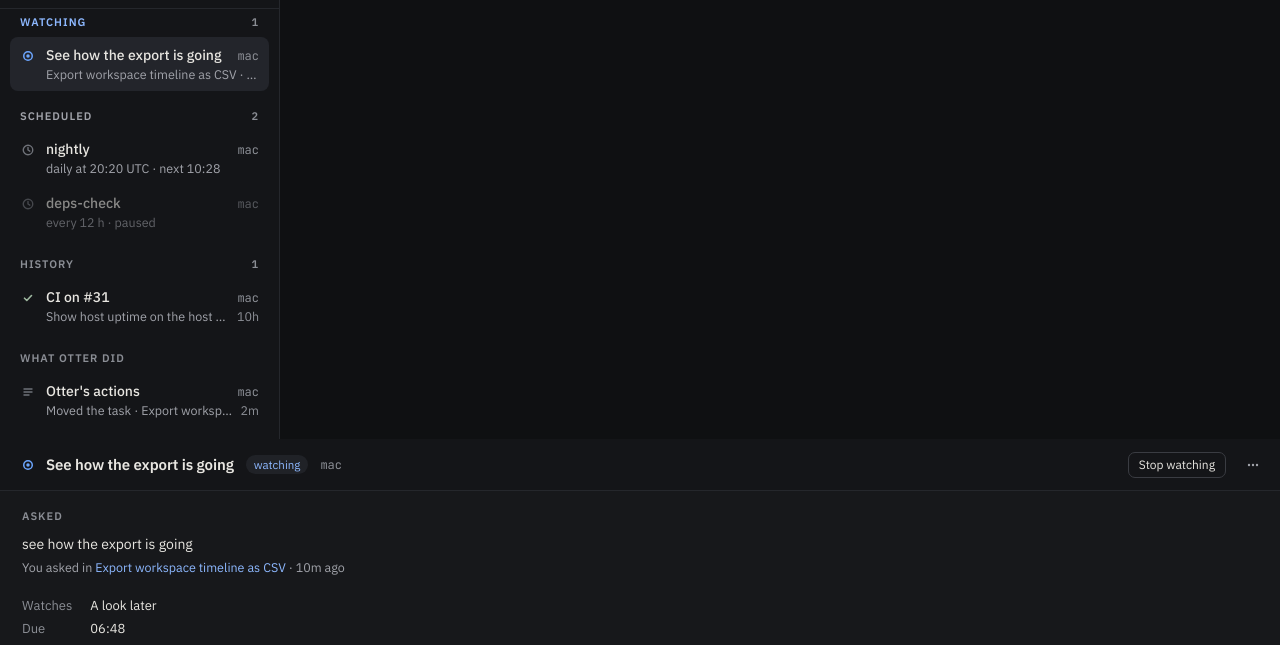
Test: What Otter did (D-193) › undoes what Otter did, once, on the task that undoes it, and reads it again
Click the list item that starts with "Otter's actions" at x=140, y=400, box [10, 373, 269, 427]
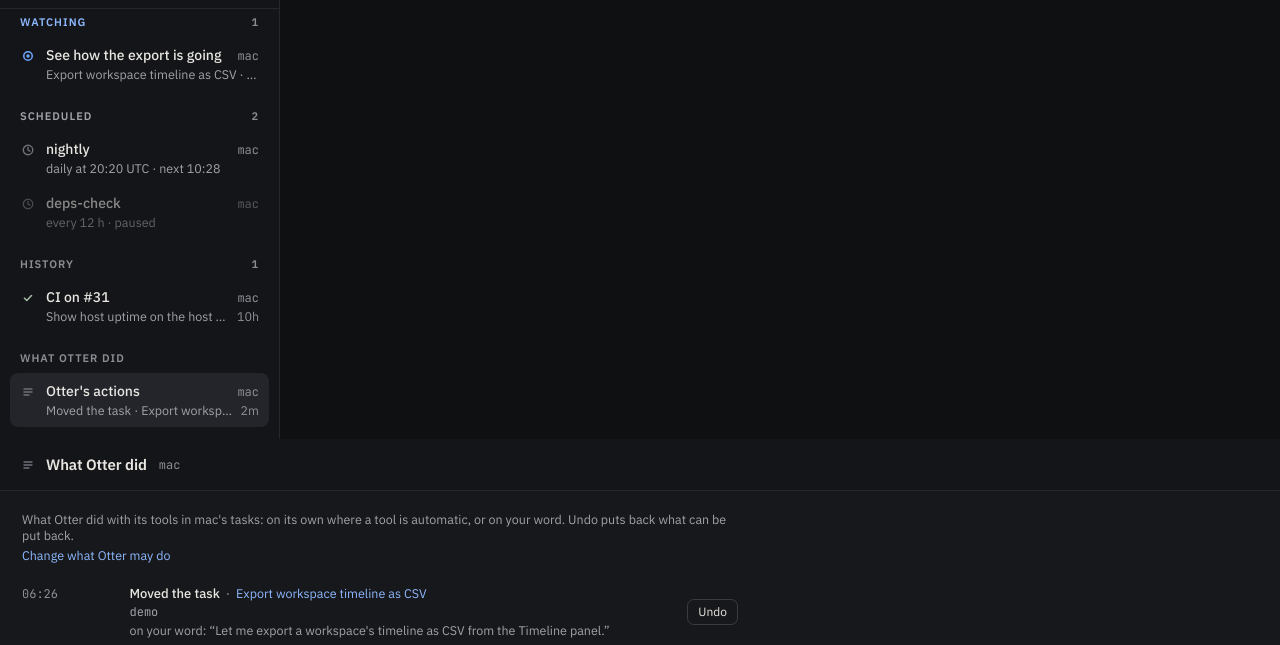
Click the button with class "ledger-undo" at x=713, y=612, box [687, 598, 738, 624]
(page scrolled)
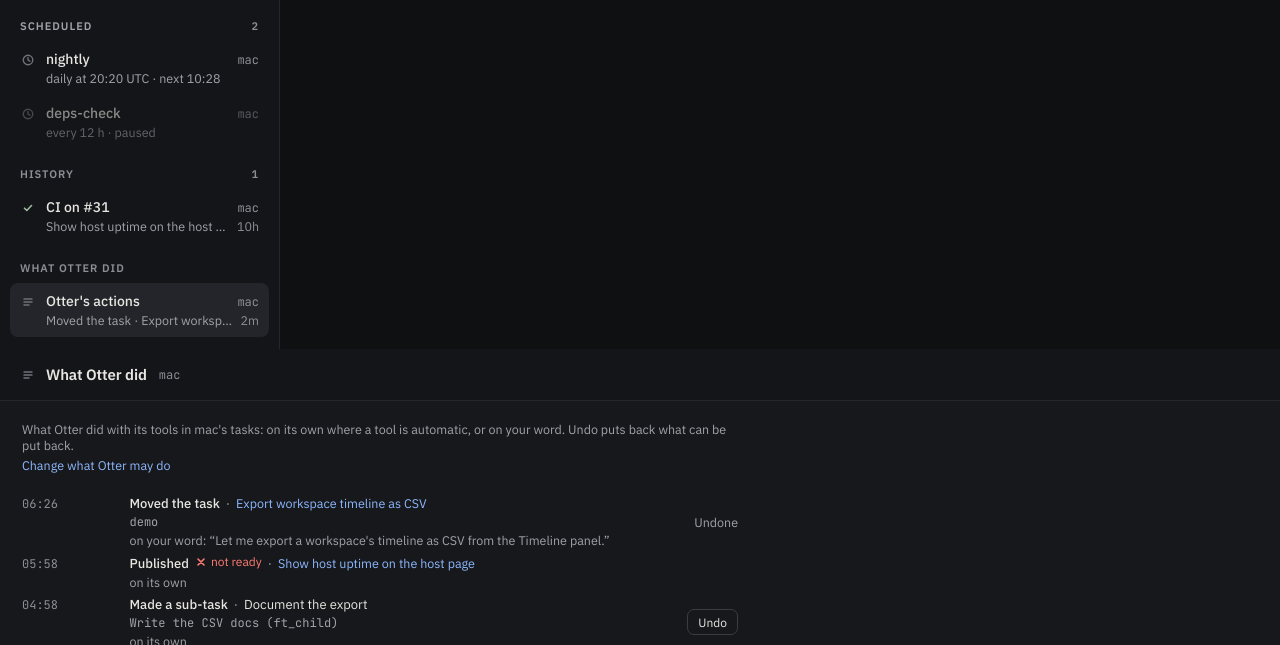
Now the text with class "ledger-undo" reads "Undone", box [694, 514, 738, 530]
# A sub-task Otter made is undone on the sub-task.
Click the button with class "ledger-undo" showing "Undo" at x=713, y=622, box [687, 609, 738, 635]
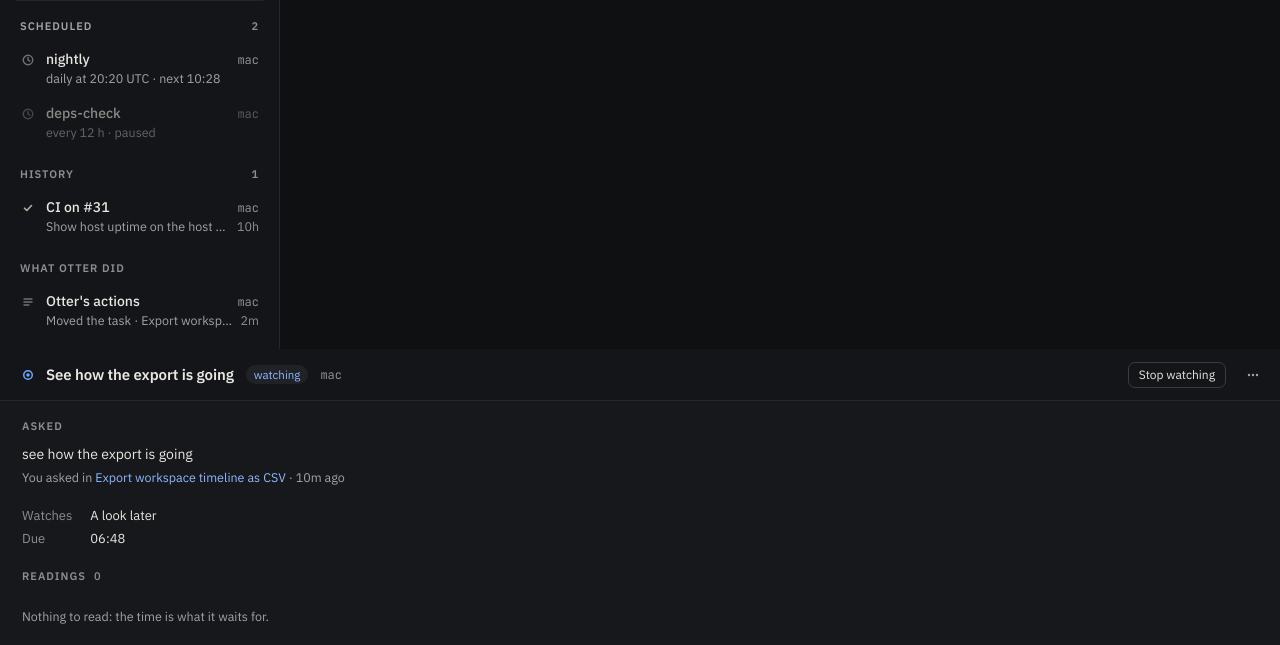
Click the list item that starts with "Otter's actions" at x=140, y=310, box [10, 283, 269, 337]
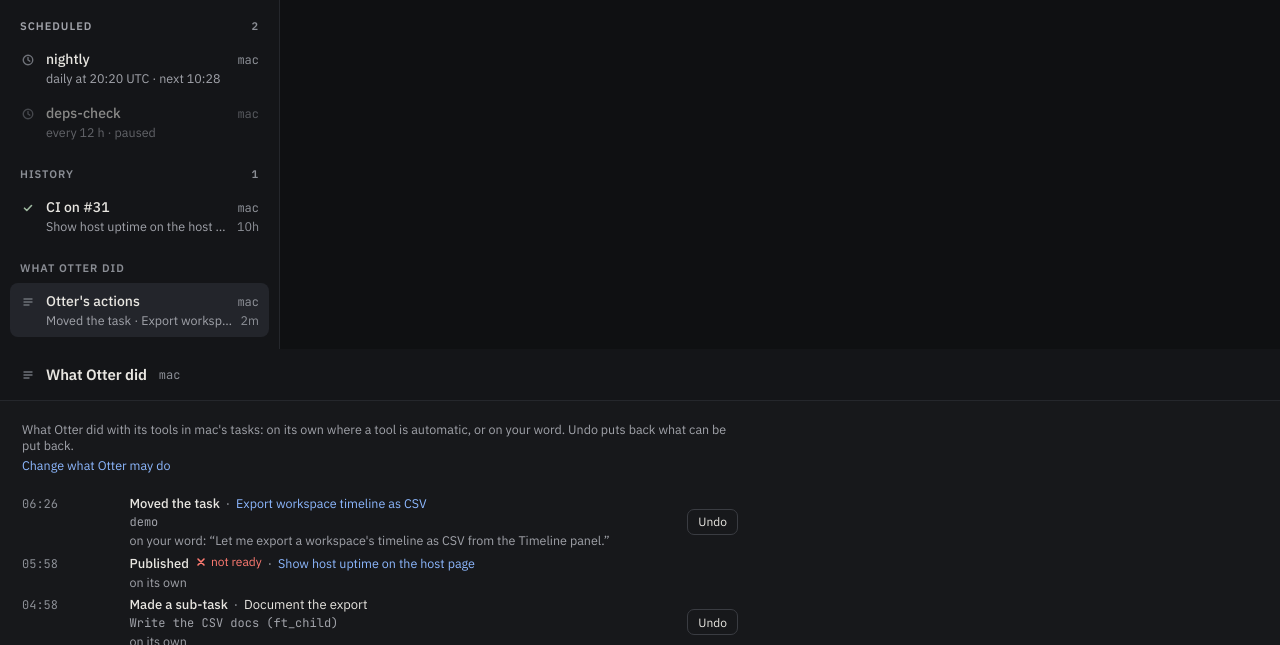
Click the button with class "ledger-undo" in the row of "06:26" at x=713, y=522, box [687, 508, 738, 534]
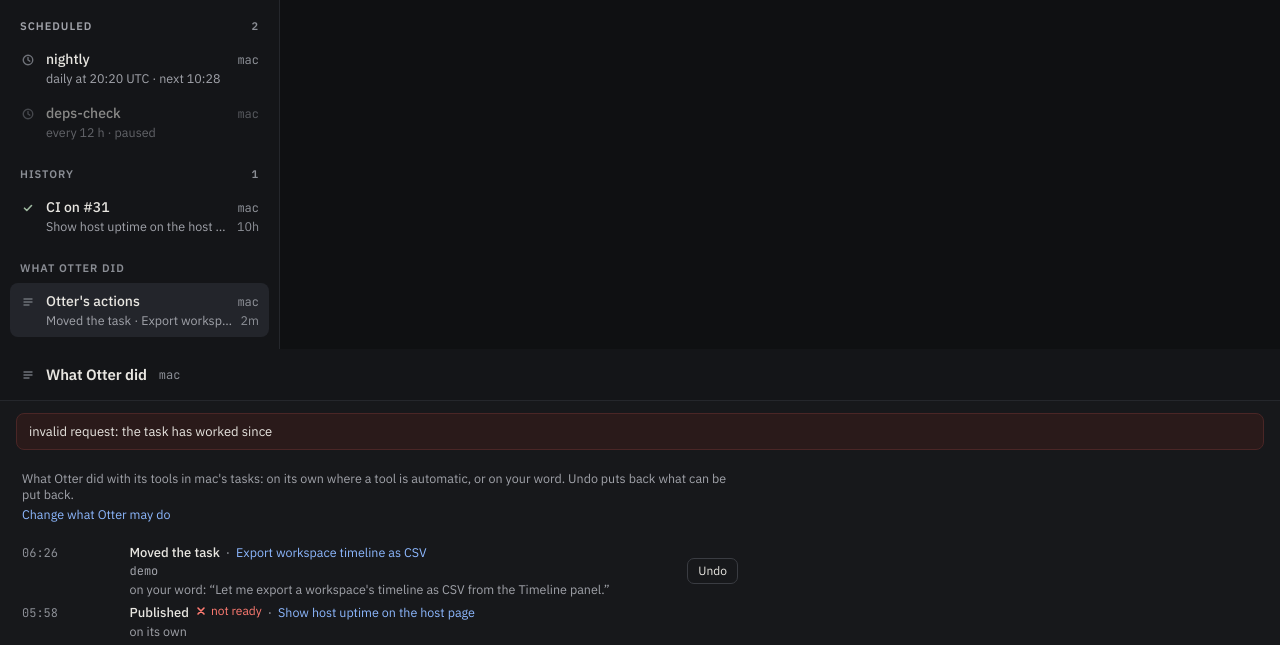
Now the button with class "ledger-undo" in the row of "06:26" reads "Undo", box [687, 558, 738, 584]
Now the message "invalid request: the task has worked since" is shown, box [16, 413, 1264, 450]
